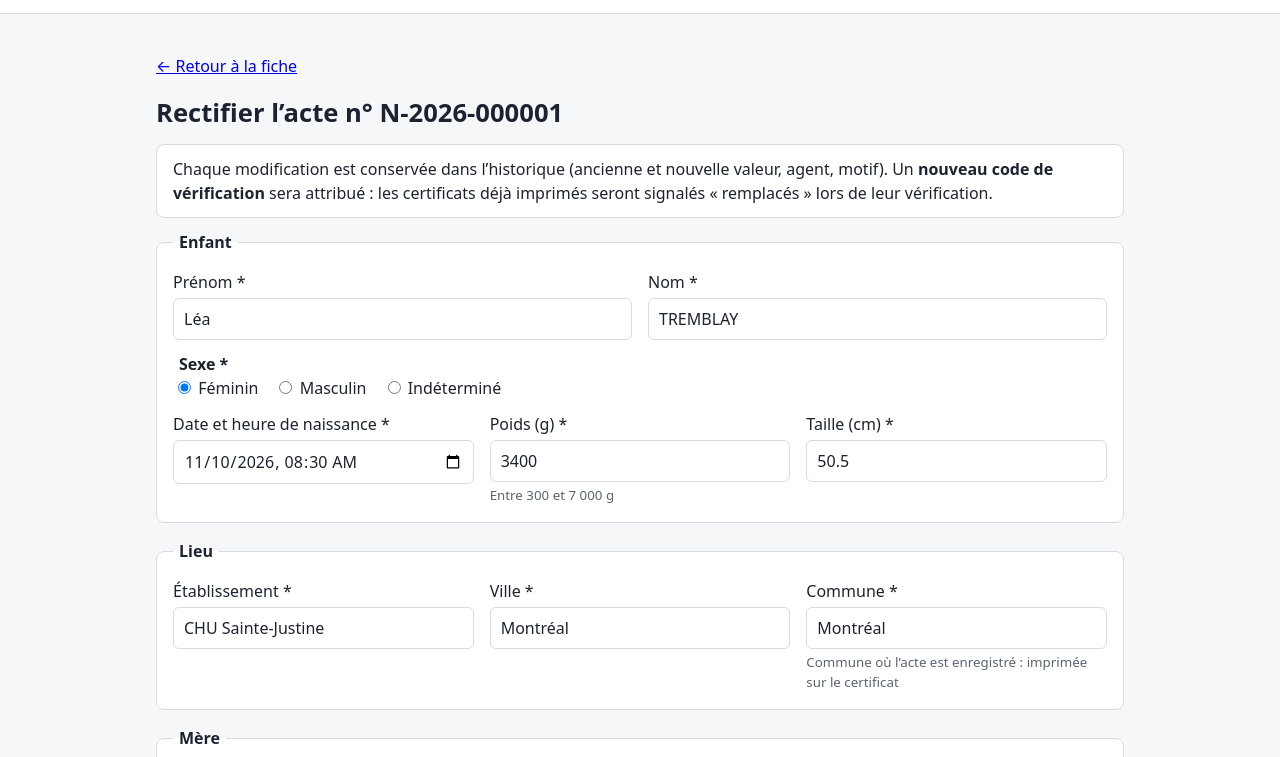
Scenario: Rectification d’un acte › enregistre la rectification, affiche l’historique avant → après et le nouveau code
Replace the text in the field labelled "Prénom *" with "Léana" at (402, 319), box [173,298,632,340]
(page scrolled)
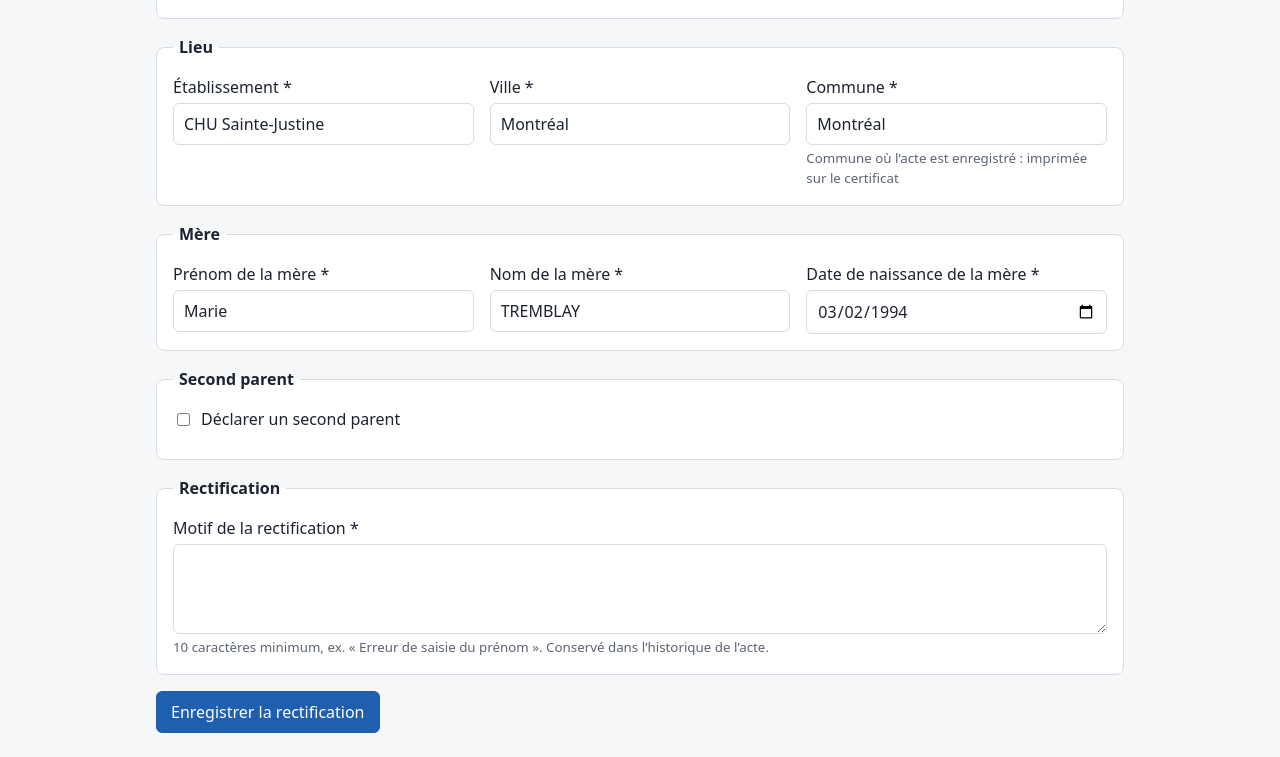
Type "Erreur de saisie du prénom" into the text box labelled "Motif de la rectification *".
click(640, 589); type("Erreur de saisie du prénom")  # box [173,544,1107,634]
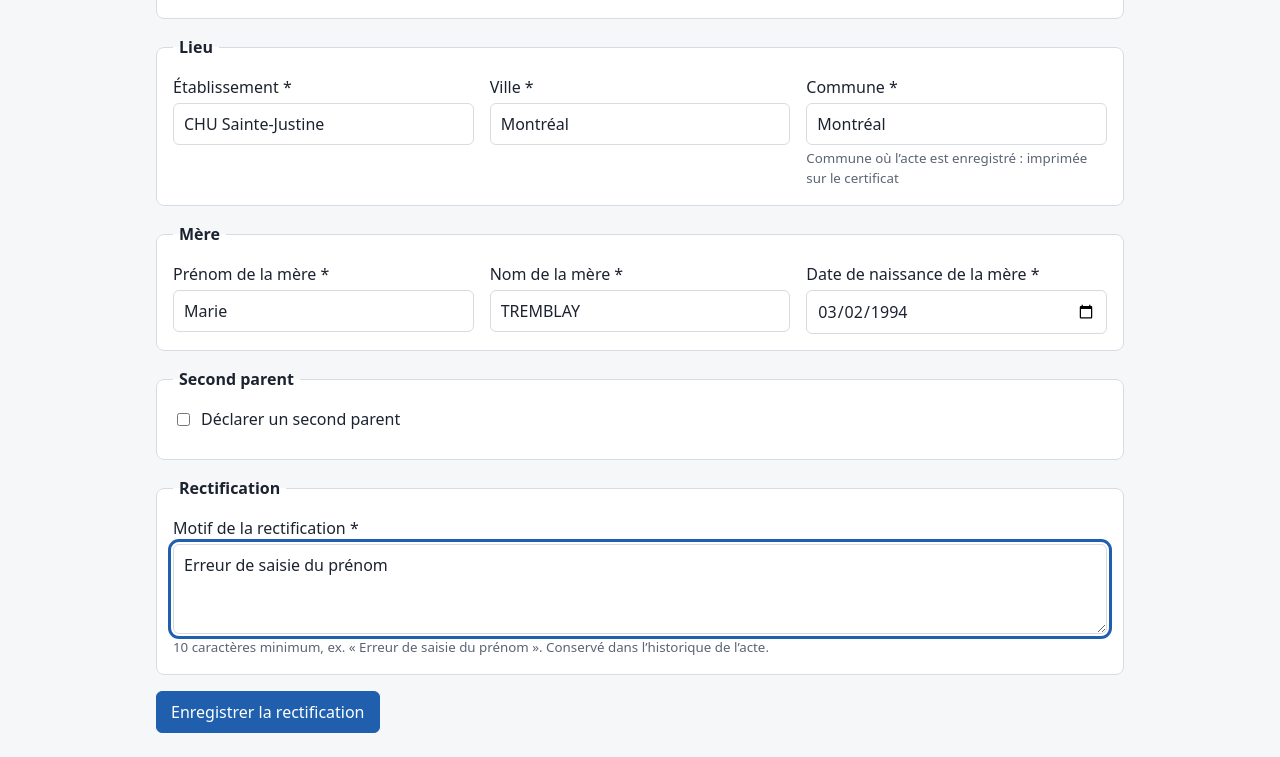
Click the button "Enregistrer la rectification".
click(268, 712)  # box [156,691,380,733]
(page scrolled)
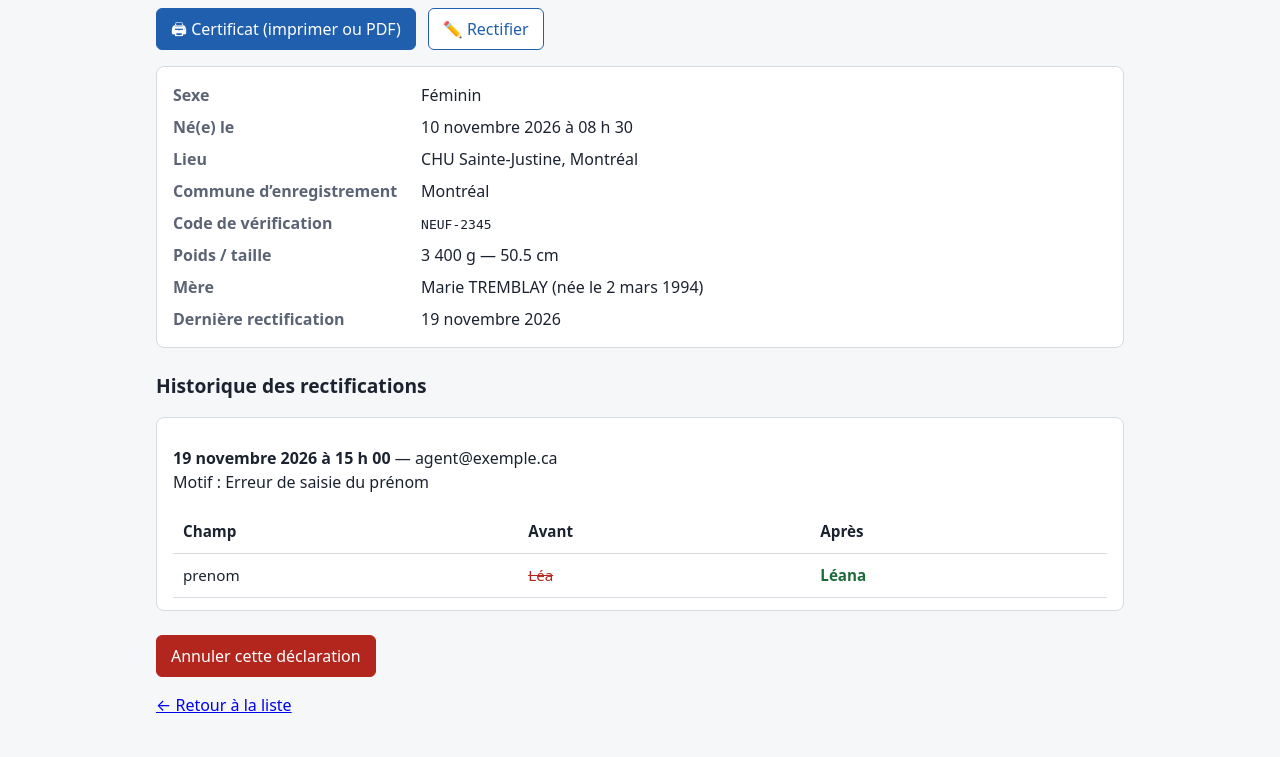
Result: the text "NEUF-2345" is shown at [421,217,492,232]
Result: the text "Erreur de saisie du prénom" is shown at [225,471,429,493]
Result: the text "Léa" is shown at [528,565,553,585]
